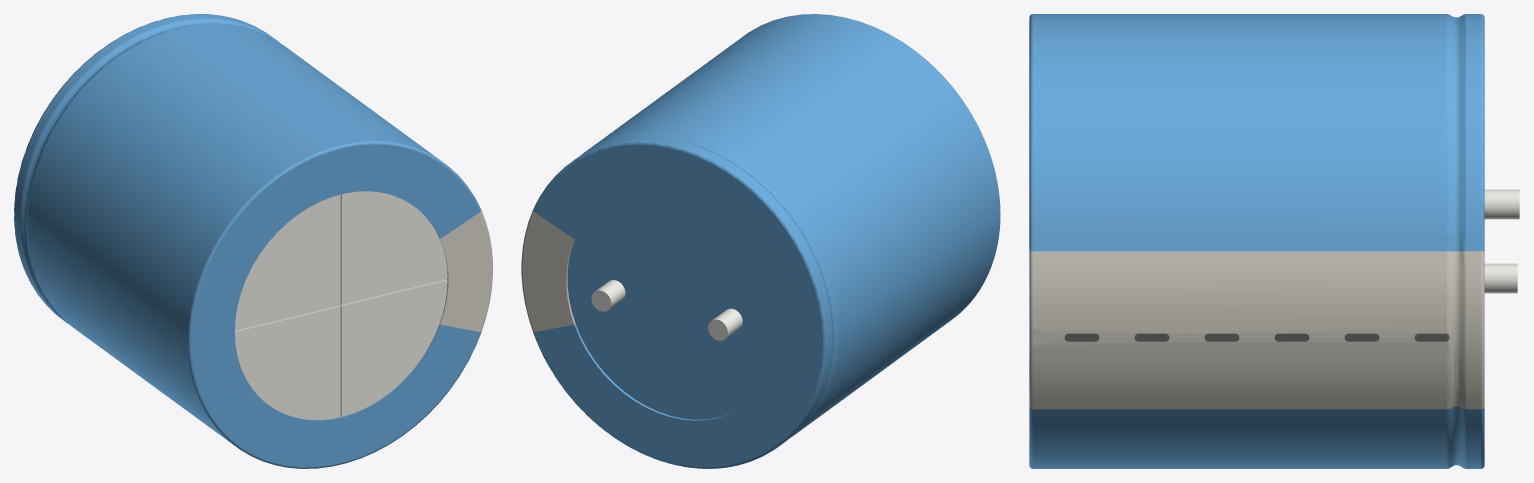
File: CP_Radial_D26.0mm_P10.00mm_SnapIn.glb
The picture shows the model from 3 angles, left to right: view 1: azimuth 30°, elevation 25°; view 2: azimuth 150°, elevation 25°; view 3: azimuth 270°, elevation 25°; orthographic projection. The views are drawn at different scales.
Parts seen in each view (by area): view 1: Shape_IndexedFaceSet.019, Shape_IndexedFaceSet.030, Shape_IndexedFaceSet.034, Shape_IndexedFaceSet.036, Shape_IndexedFaceSet.040, Shape_IndexedFaceSet.043, Shape_IndexedFaceSet.031, Shape_IndexedFaceSet.022, Shape_IndexedFaceSet.011, Shape_IndexedFaceSet.015, Shape_IndexedFaceSet.013, Shape_IndexedFaceSet.017; view 2: Shape_IndexedFaceSet.019, Shape_IndexedFaceSet.002, Shape_IndexedFaceSet.006, Shape_IndexedFaceSet.007, Shape_IndexedFaceSet.011, Shape_IndexedFaceSet.009, Shape_IndexedFaceSet.015, Shape_IndexedFaceSet.017; view 3: Shape_IndexedFaceSet.019, Shape_IndexedFaceSet.020, Shape_IndexedFaceSet.011, Shape_IndexedFaceSet.015, Shape_IndexedFaceSet.012, Shape_IndexedFaceSet.016, Shape_IndexedFaceSet.022, Shape_IndexedFaceSet.013, Shape_IndexedFaceSet.017, Shape_IndexedFaceSet.009, Shape_IndexedFaceSet.005, Shape_IndexedFaceSet.001 (+4 smaller).
Part boxes in pixels (<box>): Shape_IndexedFaceSet.019: <box>27,24,437,442</box>; Shape_IndexedFaceSet.030: <box>191,144,479,467</box>; Shape_IndexedFaceSet.034: <box>341,280,447,416</box>; Shape_IndexedFaceSet.036: <box>341,191,447,304</box>; Shape_IndexedFaceSet.040: <box>235,306,340,419</box>; Shape_IndexedFaceSet.043: <box>235,195,340,330</box>; Shape_IndexedFaceSet.031: <box>440,212,491,331</box>; Shape_IndexedFaceSet.022: <box>187,141,481,468</box>; Shape_IndexedFaceSet.011: <box>14,14,272,320</box>; Shape_IndexedFaceSet.015: <box>22,20,263,315</box>; Shape_IndexedFaceSet.013: <box>20,18,279,324</box>; Shape_IndexedFaceSet.017: <box>27,23,255,313</box>; Shape_IndexedFaceSet.019: <box>584,14,999,434</box>; Shape_IndexedFaceSet.002: <box>567,191,779,419</box>; Shape_IndexedFaceSet.006: <box>534,144,822,467</box>; Shape_IndexedFaceSet.007: <box>522,212,573,332</box>; Shape_IndexedFaceSet.011: <box>574,137,832,444</box>; Shape_IndexedFaceSet.009: <box>533,141,826,468</box>; Shape_IndexedFaceSet.015: <box>595,133,837,427</box>; Shape_IndexedFaceSet.017: <box>581,131,839,438</box>; Shape_IndexedFaceSet.019: <box>1033,14,1446,468</box>; Shape_IndexedFaceSet.020: <box>1033,251,1446,409</box>; Shape_IndexedFaceSet.011: <box>1466,14,1480,468</box>; Shape_IndexedFaceSet.015: <box>1450,15,1462,466</box>; Shape_IndexedFaceSet.012: <box>1466,251,1480,409</box>; Shape_IndexedFaceSet.016: <box>1450,251,1462,407</box>; Shape_IndexedFaceSet.022: <box>1029,14,1032,468</box>; Shape_IndexedFaceSet.013: <box>1462,14,1465,468</box>; Shape_IndexedFaceSet.017: <box>1447,14,1450,468</box>; Shape_IndexedFaceSet.009: <box>1481,14,1484,468</box>; Shape_IndexedFaceSet.005: <box>1484,189,1519,219</box>; Shape_IndexedFaceSet.001: <box>1484,263,1517,293</box>.
Bounding box in the file's own units: 10.24 × 10.24 × 11.02.
